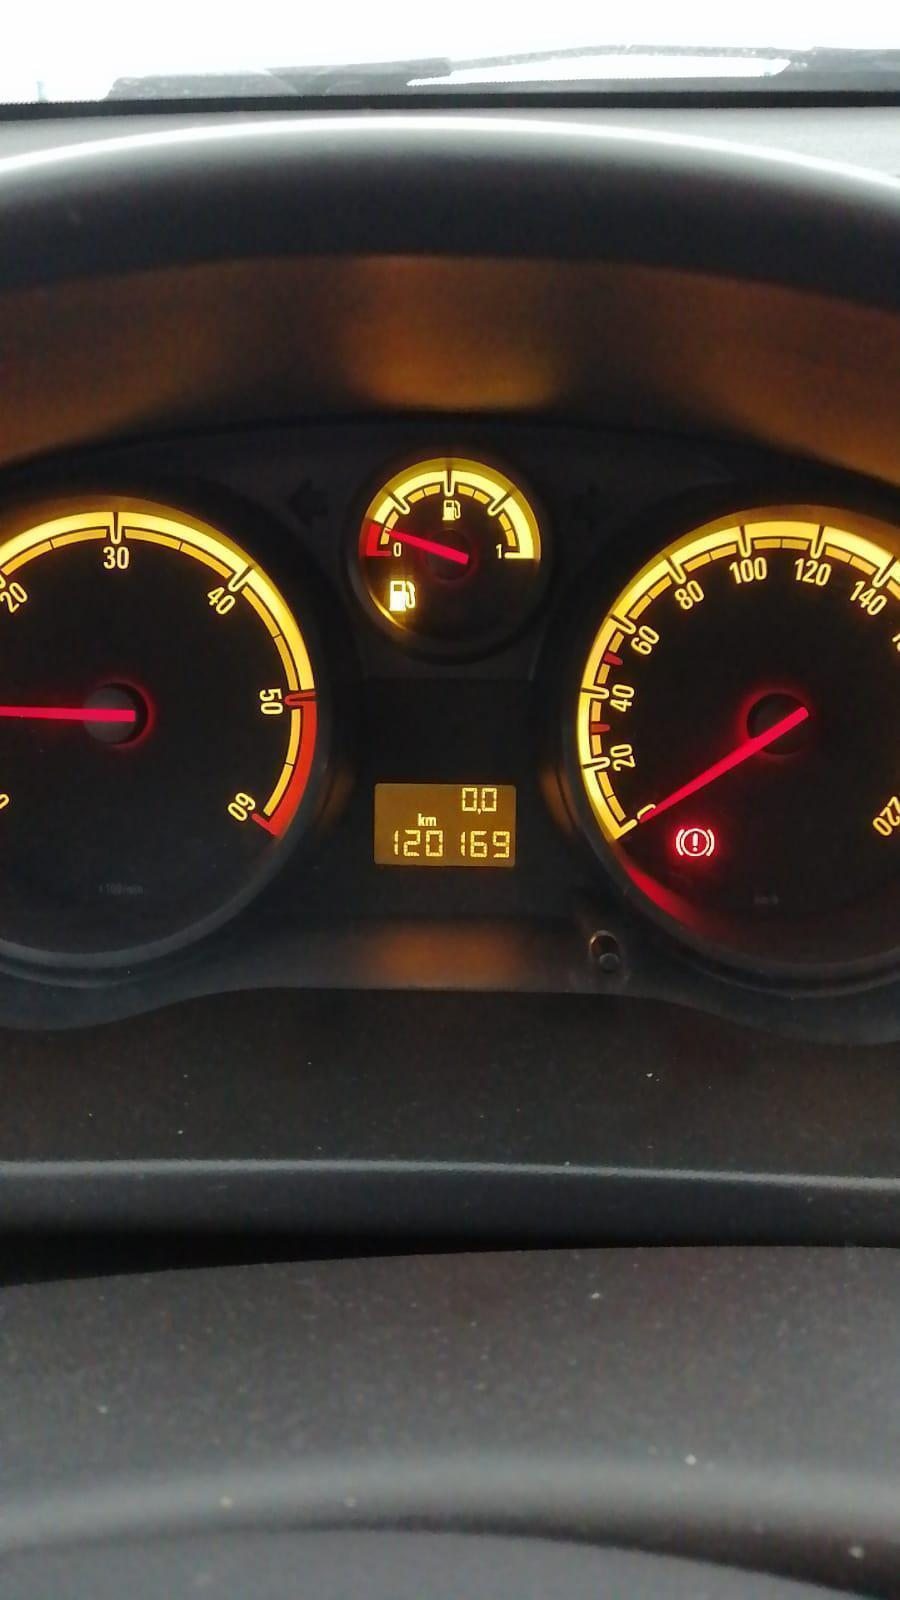,: (476, 807, 482, 815)
0: (424, 829, 444, 857), (460, 787, 477, 811), (480, 787, 496, 812)
1: (392, 829, 399, 855), (459, 831, 465, 857)
2: (402, 829, 421, 856)
6: (469, 830, 488, 858)
9: (491, 830, 510, 859)
X: (416, 812, 425, 827), (424, 816, 436, 826)
odometer: (370, 780, 519, 869)
